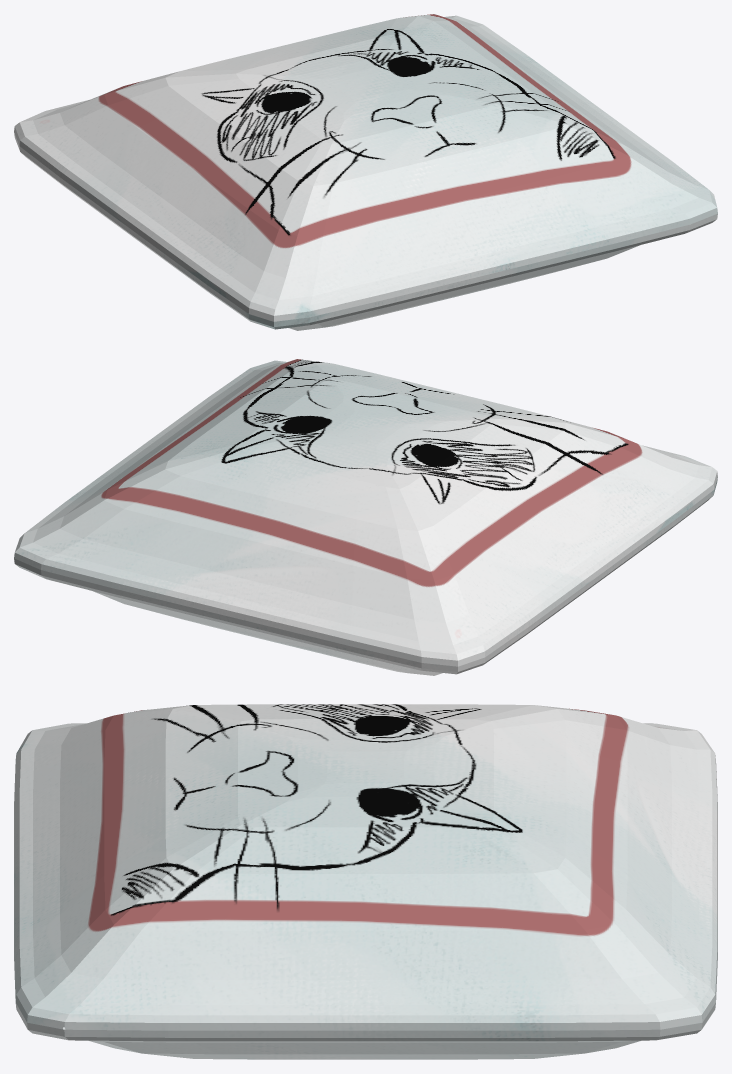
The model's file is Pillowtrain.fbx.
The picture shows the model from 3 angles, top to bottom: view 1: azimuth 30°, elevation 25°; view 2: azimuth 150°, elevation 25°; view 3: azimuth 270°, elevation 25°; orthographic projection. The views are drawn at different scales.
Parts seen in each view (by area): view 1: Plane; view 2: Plane; view 3: Plane.
Part boxes in pixels (bbox=[...]): Plane: bbox=[14, 14, 717, 330]; Plane: bbox=[14, 359, 717, 675]; Plane: bbox=[14, 704, 717, 1059].
Bounding box in the file's own units: 200 × 72 × 200.
Materials: 1 (1 with a texture image).
